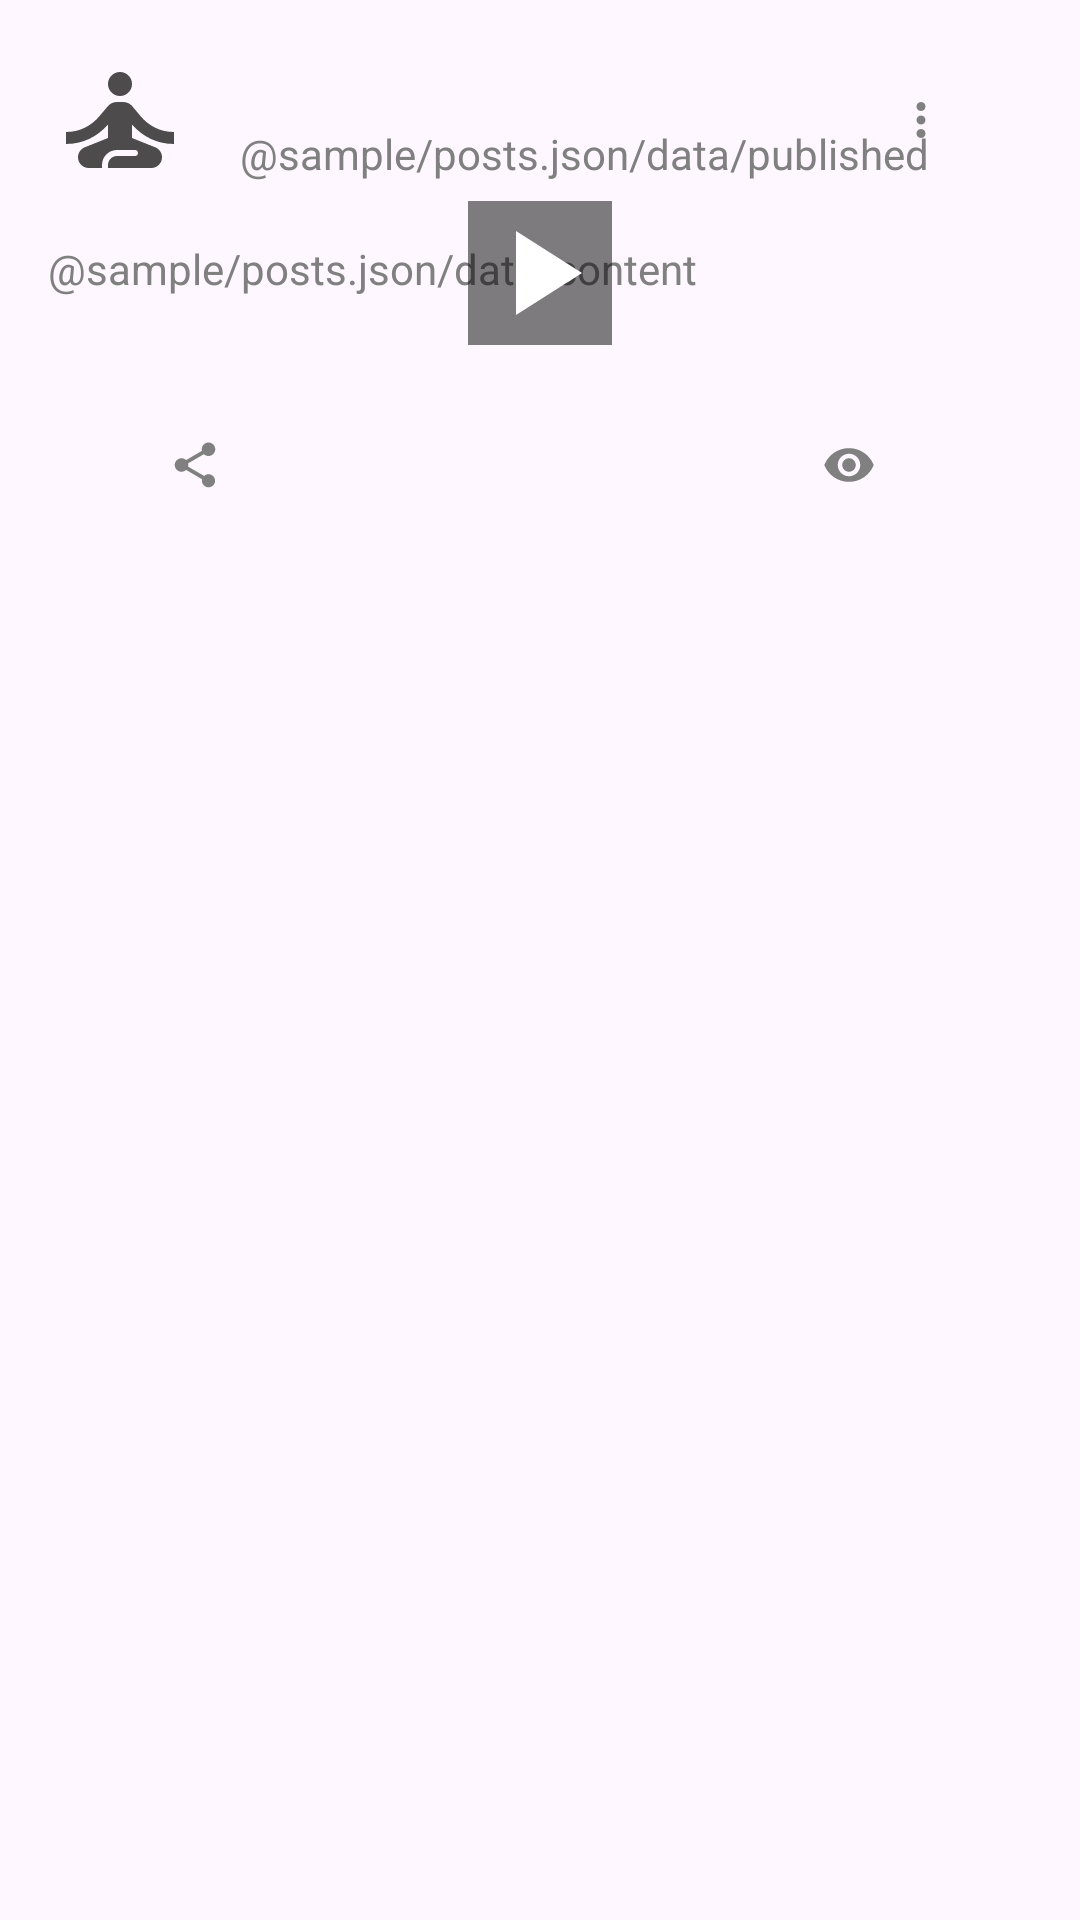

Icons on this 1080 × 1920 Android screen, each with its box as [x1=x1, y1=y1, x2=x2, y2=y2]:
Play: [x1=468, y1=201, x2=612, y2=345]
